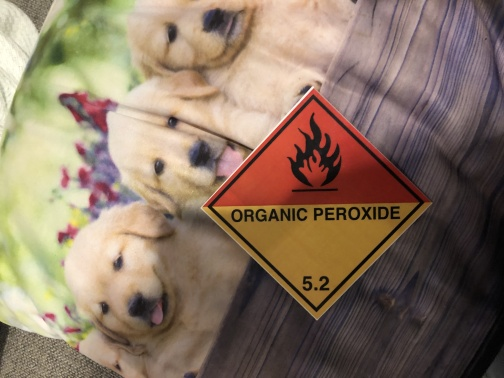OrganicPeroxide: (202, 88, 433, 319)
